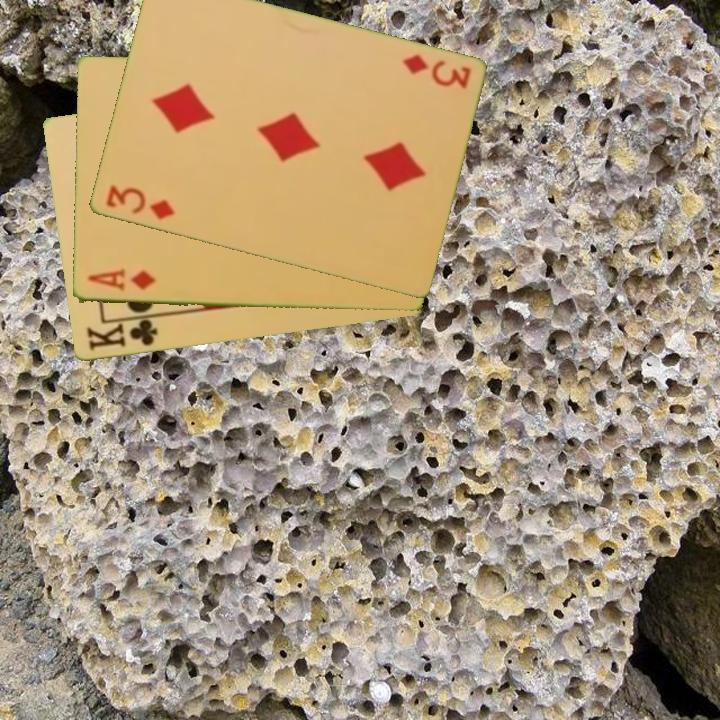3d: (102, 182, 177, 224), (397, 51, 473, 92)
Ad: (83, 266, 157, 294)
Kc: (82, 313, 164, 354)
